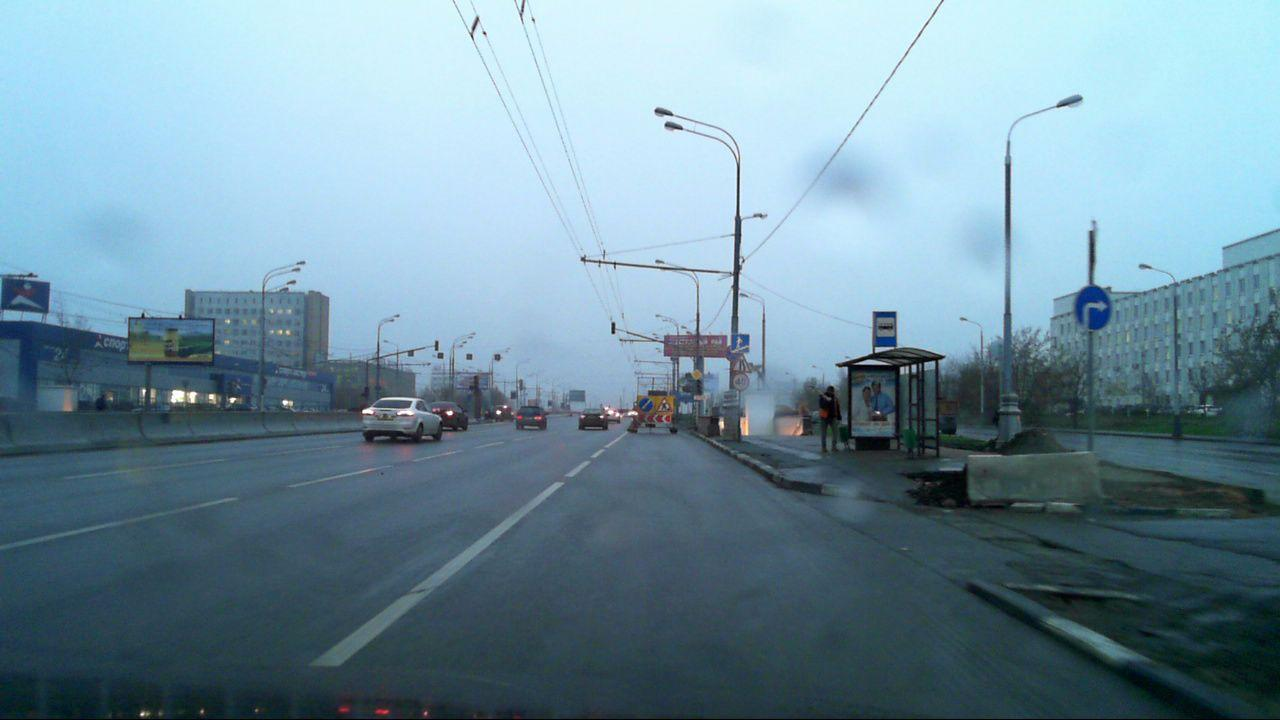4_1_2: (1074, 285, 1117, 333)
5_16: (871, 311, 898, 347)
6_6: (731, 333, 750, 353)
